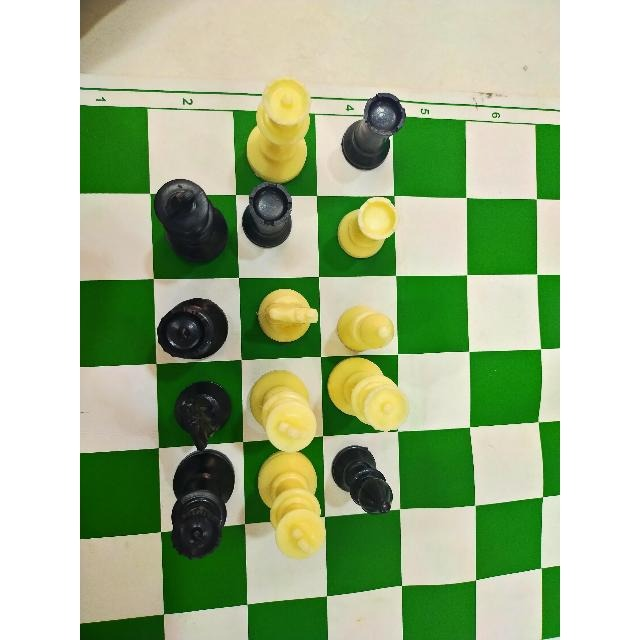black-bishop: (329, 441, 398, 517)
black-king: (141, 171, 228, 262)
black-knight: (167, 379, 231, 448)
black-queen: (164, 450, 233, 560), (150, 294, 230, 364)
black-rook: (338, 84, 404, 169), (245, 179, 300, 249)
white-bishop: (329, 302, 397, 352)
white-king: (251, 450, 332, 567), (234, 78, 318, 182), (242, 368, 323, 452)
white-knight: (258, 282, 318, 349)
white-queen: (322, 353, 412, 433)
white-rook: (324, 188, 402, 271)
